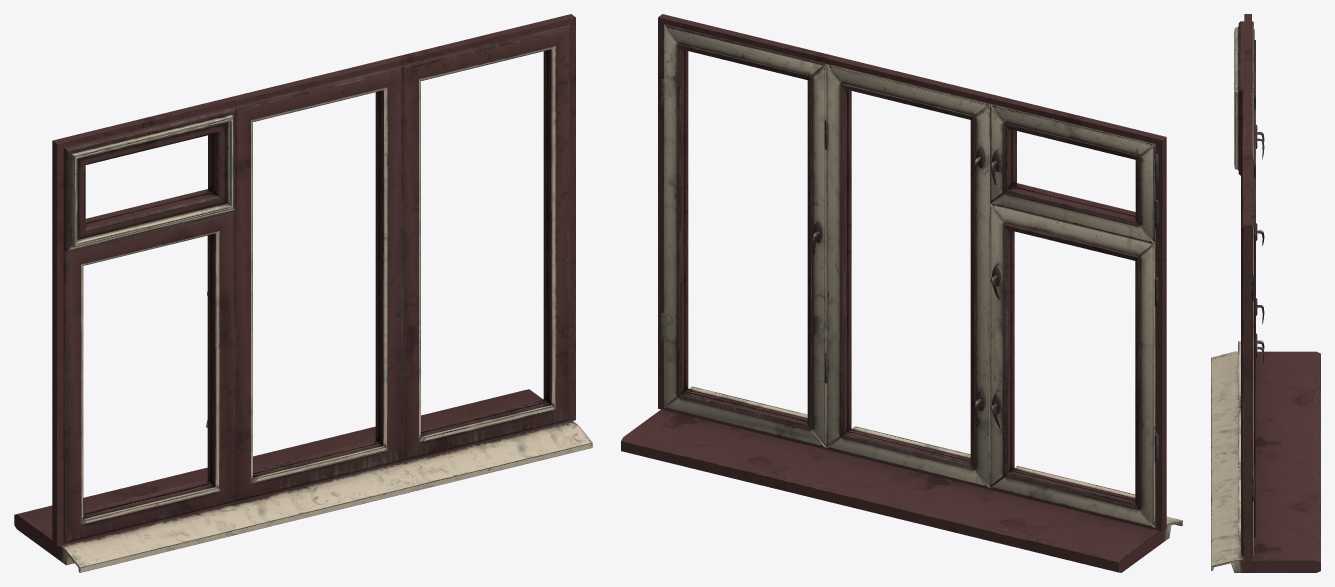
The model's file is SM_WindowWide01.FBX.
3 renders of one model, left to right at view 1: azimuth 30°, elevation 25°; view 2: azimuth 150°, elevation 25°; view 3: azimuth 270°, elevation 25°, orthographic. The views are drawn at different scales.
Parts seen in each view (by area): view 1: SM_WindowWide01_LOD0; view 2: SM_WindowWide01_LOD0; view 3: SM_WindowWide01_LOD0.
Boxes of the visible parts, x1,y1,x2,y2 form: SM_WindowWide01_LOD0: (14,14,592,572); SM_WindowWide01_LOD0: (621,14,1182,572); SM_WindowWide01_LOD0: (1211,14,1320,572).
Size of the model in its own units: 182 by 39.96 by 140.
